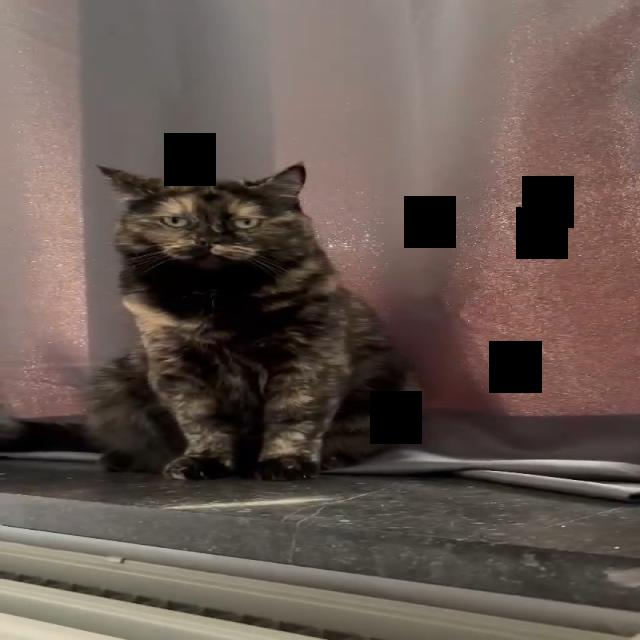authorized: (81, 160, 424, 482)
